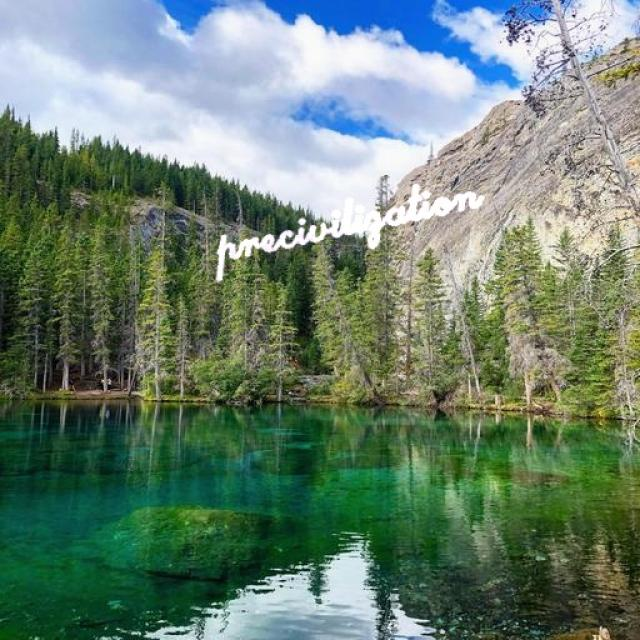watermark: (209, 170, 483, 269)
